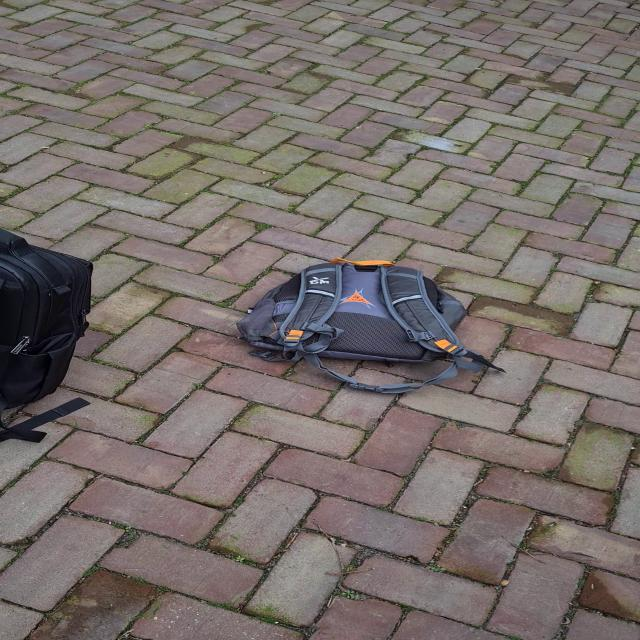backpack: (233, 257, 481, 397), (0, 221, 96, 445)
